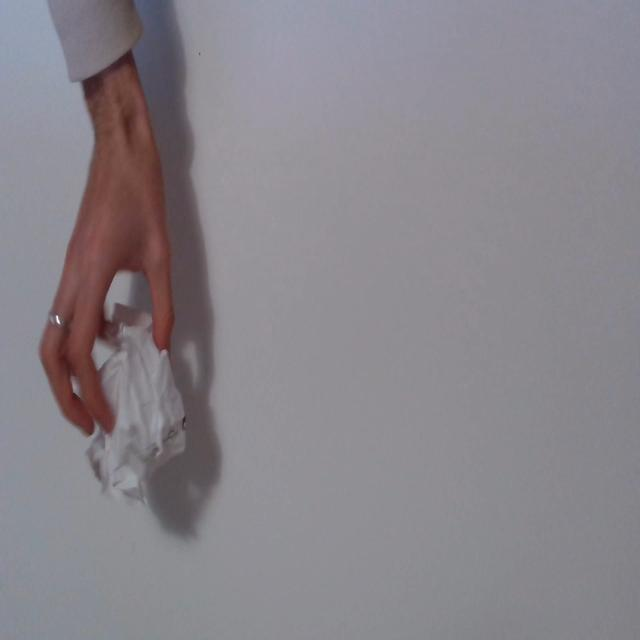Paper: (88, 309, 193, 494)
